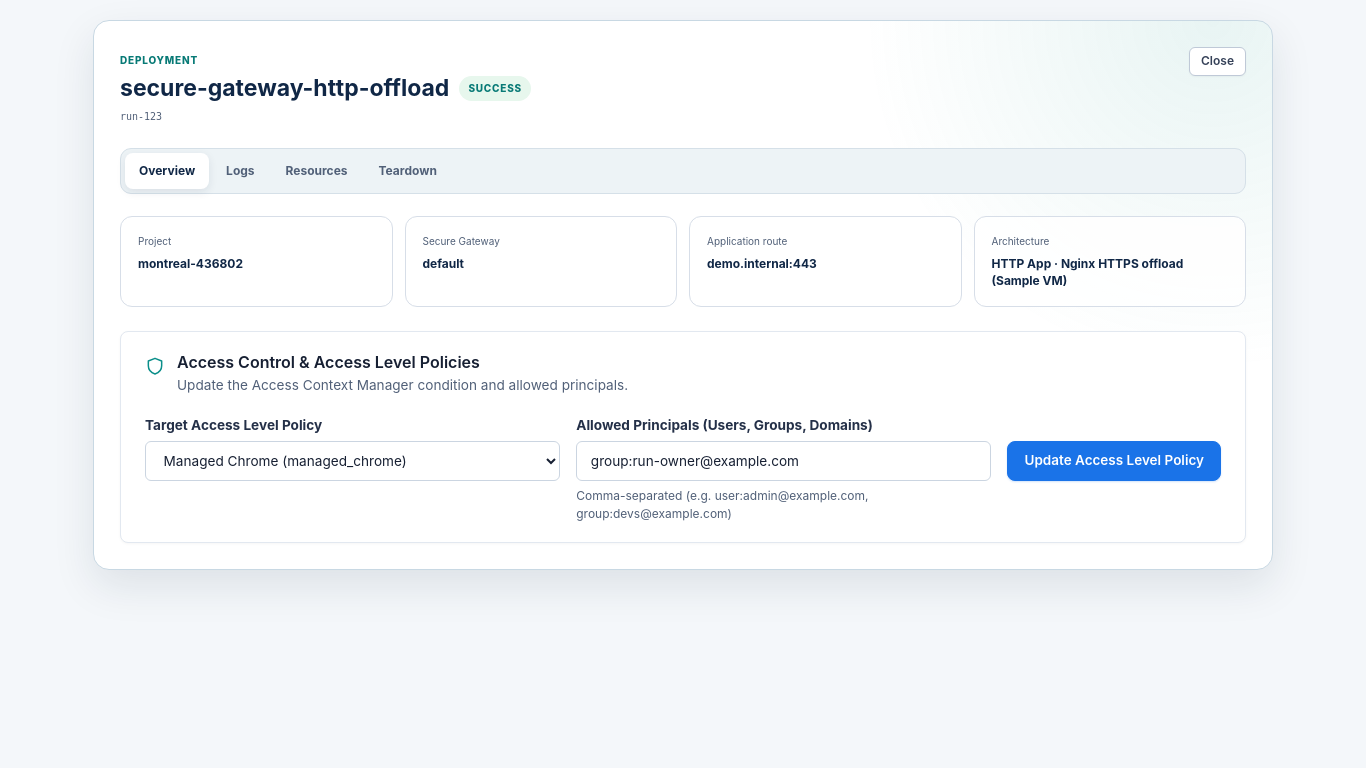
Test case: DeploymentManager › uses the server policy principals as the only persisted source
Replace the text in the field labelled "Allowed Principals (Users, Groups, Domains)" with "user:requested@example.com" at (784, 461), box [576,441,991,481]
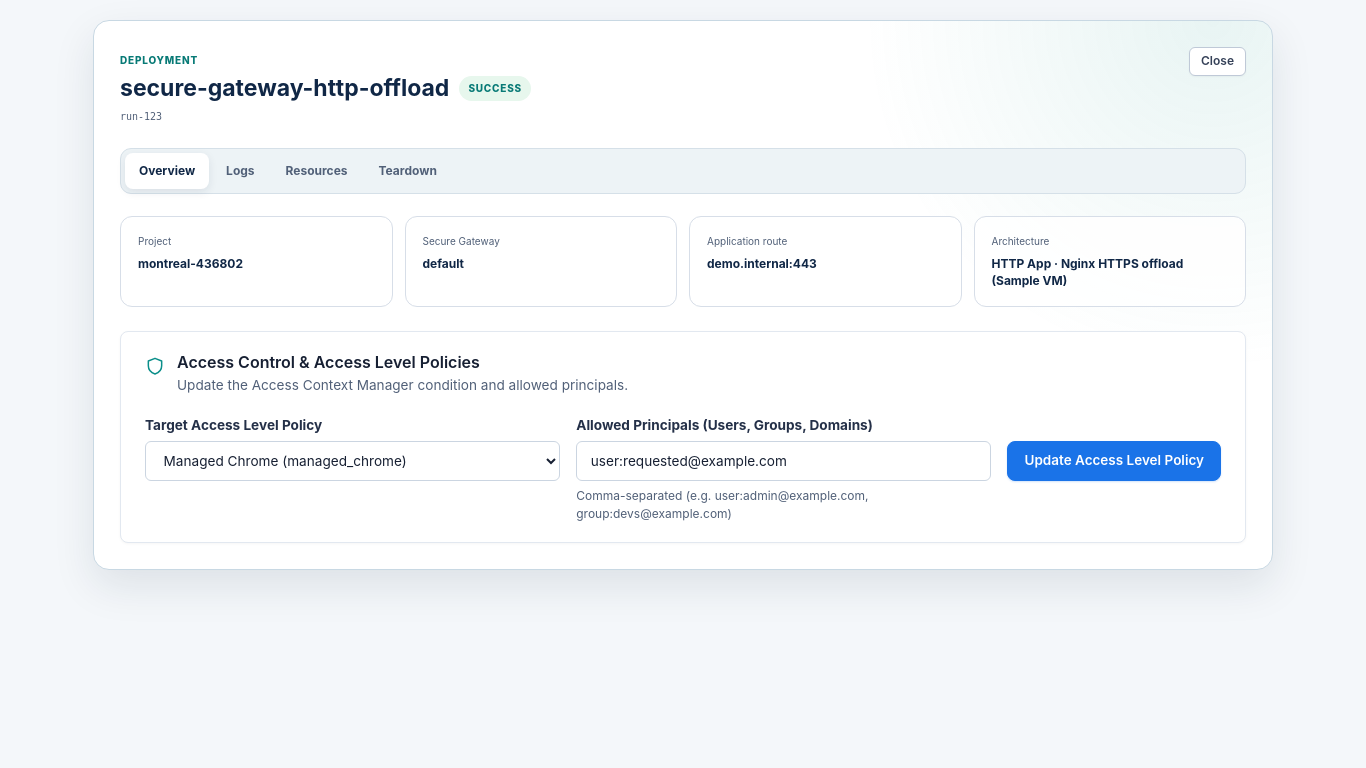
Select "No Access Level constraint" in the dropdown labelled "Target Access Level Policy" at (353, 461), box [145,441,560,481]
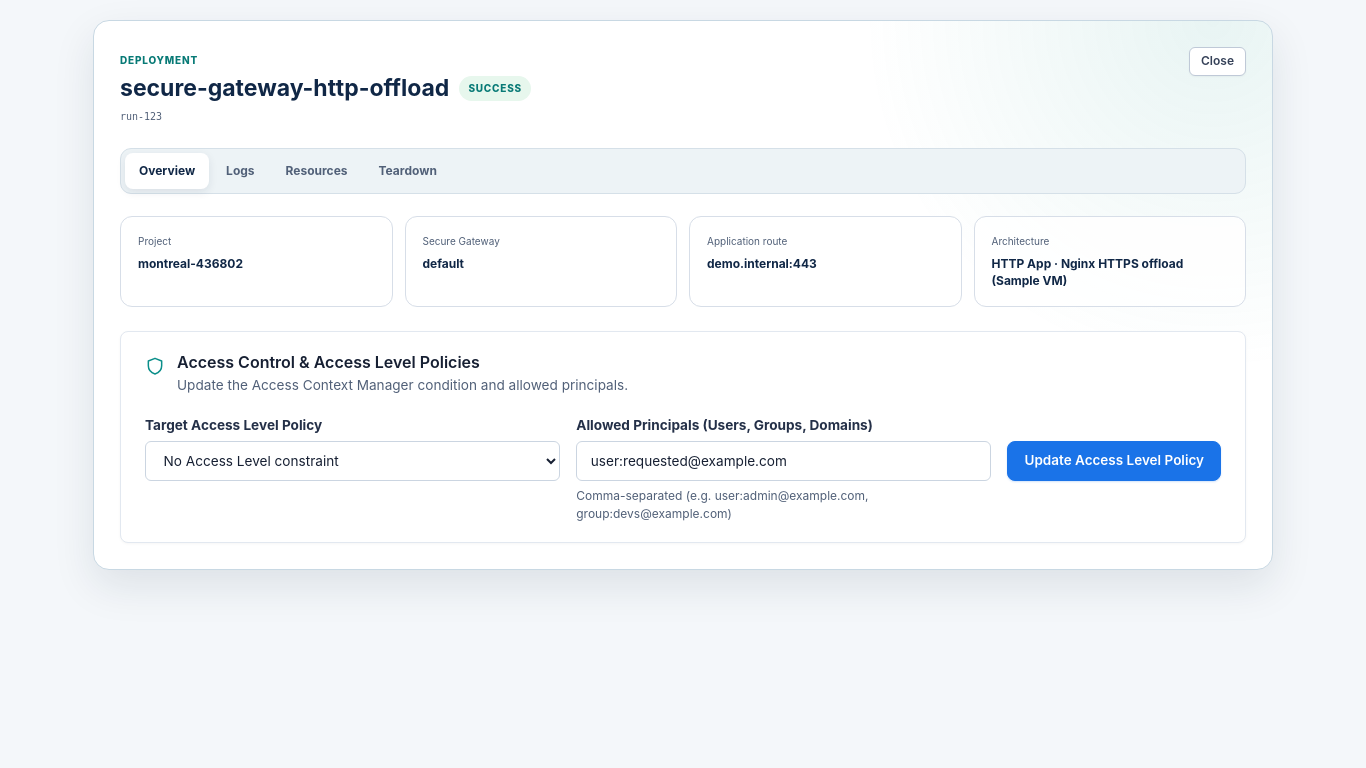
Click the button "Update Access Level Policy" at (1114, 461), box [1008,441,1221,481]
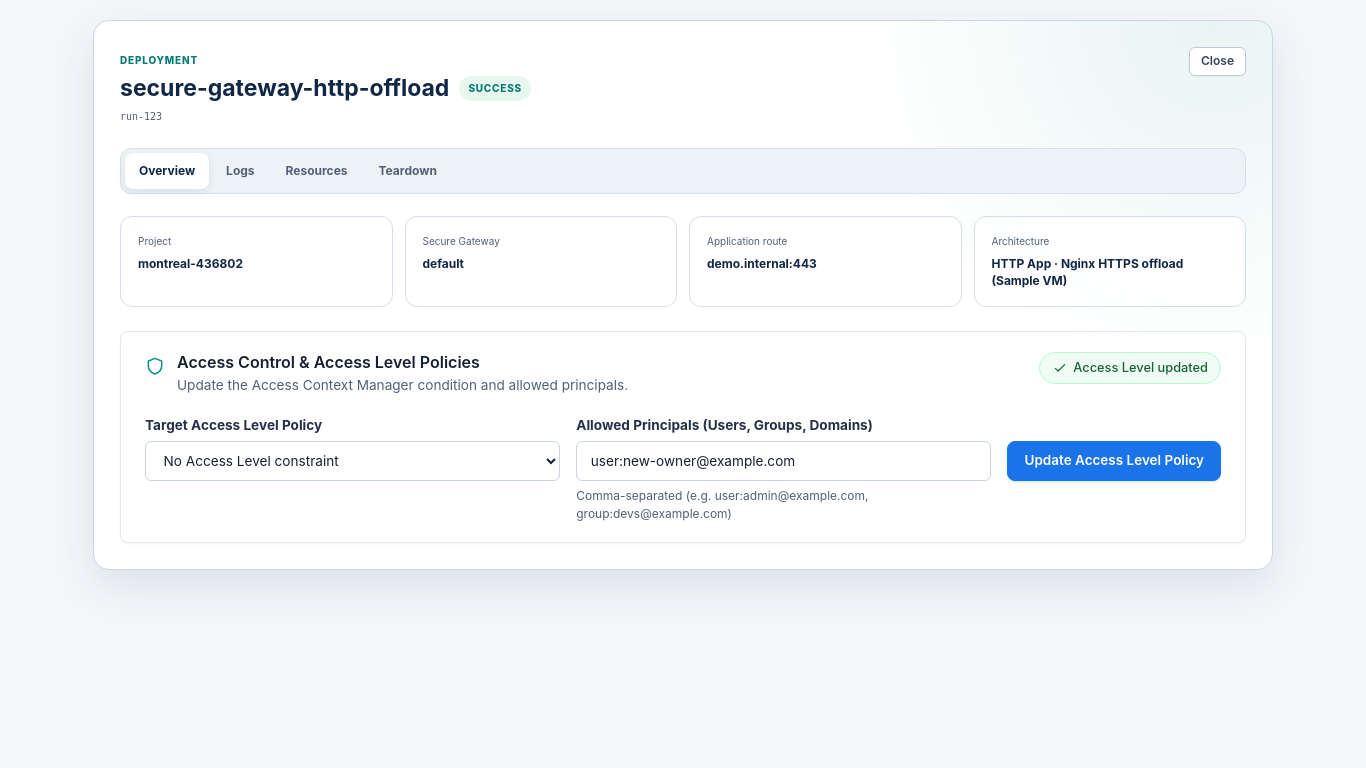
Expected: the field labelled "Allowed Principals (Users, Groups, Domains)" holds "user:new-owner@example.com", [576,441,991,481]
